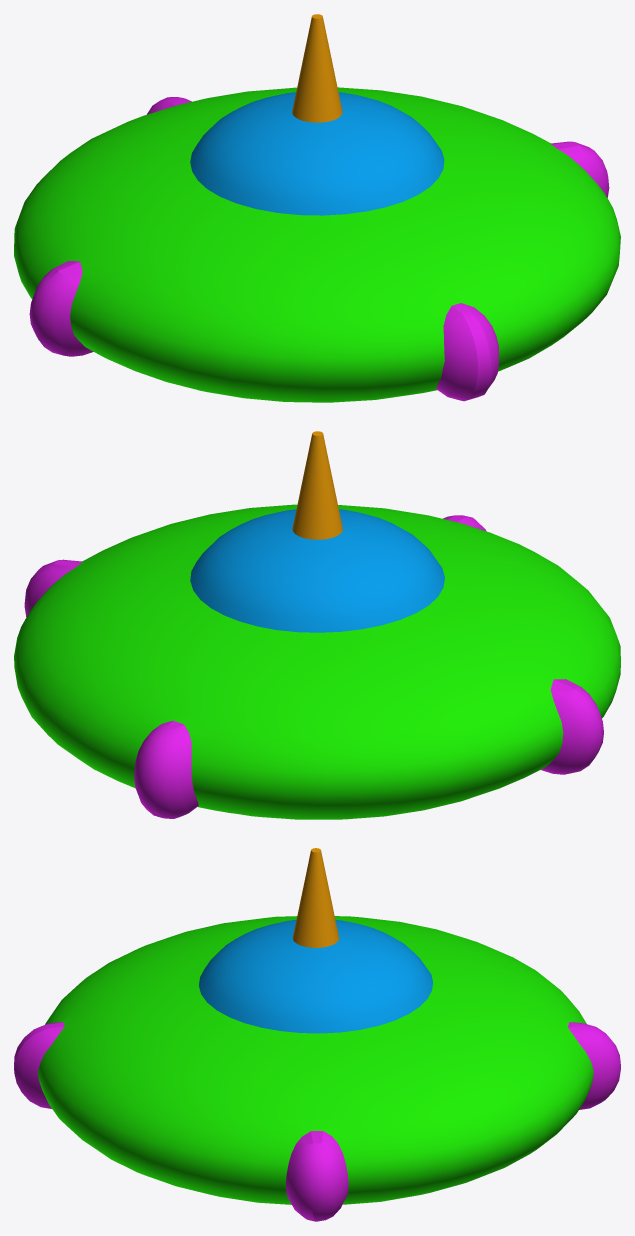
File: ufo.fbx
The picture shows the model from 3 angles, top to bottom: view 1: azimuth 30°, elevation 25°; view 2: azimuth 150°, elevation 25°; view 3: azimuth 270°, elevation 25°; orthographic projection. The views are drawn at different scales.
Parts seen in each view (by area): view 1: Retopo_Sphere.001; view 2: Retopo_Sphere.001; view 3: Retopo_Sphere.001.
Boxes of the visible parts, <box> form: Retopo_Sphere.001: <box>14,14,620,402</box>; Retopo_Sphere.001: <box>14,431,620,819</box>; Retopo_Sphere.001: <box>14,848,620,1221</box>.
Bounding box in the file's own units: 216 × 115 × 215.
